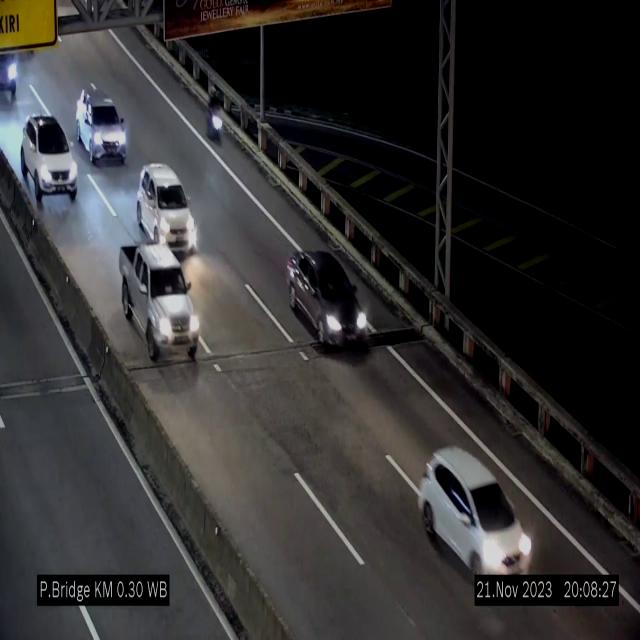Car: (420, 447, 532, 573), (283, 247, 370, 360), (119, 244, 199, 362), (137, 163, 197, 252), (21, 115, 77, 201), (76, 86, 128, 164)
Motorcycle: (204, 84, 226, 150)
